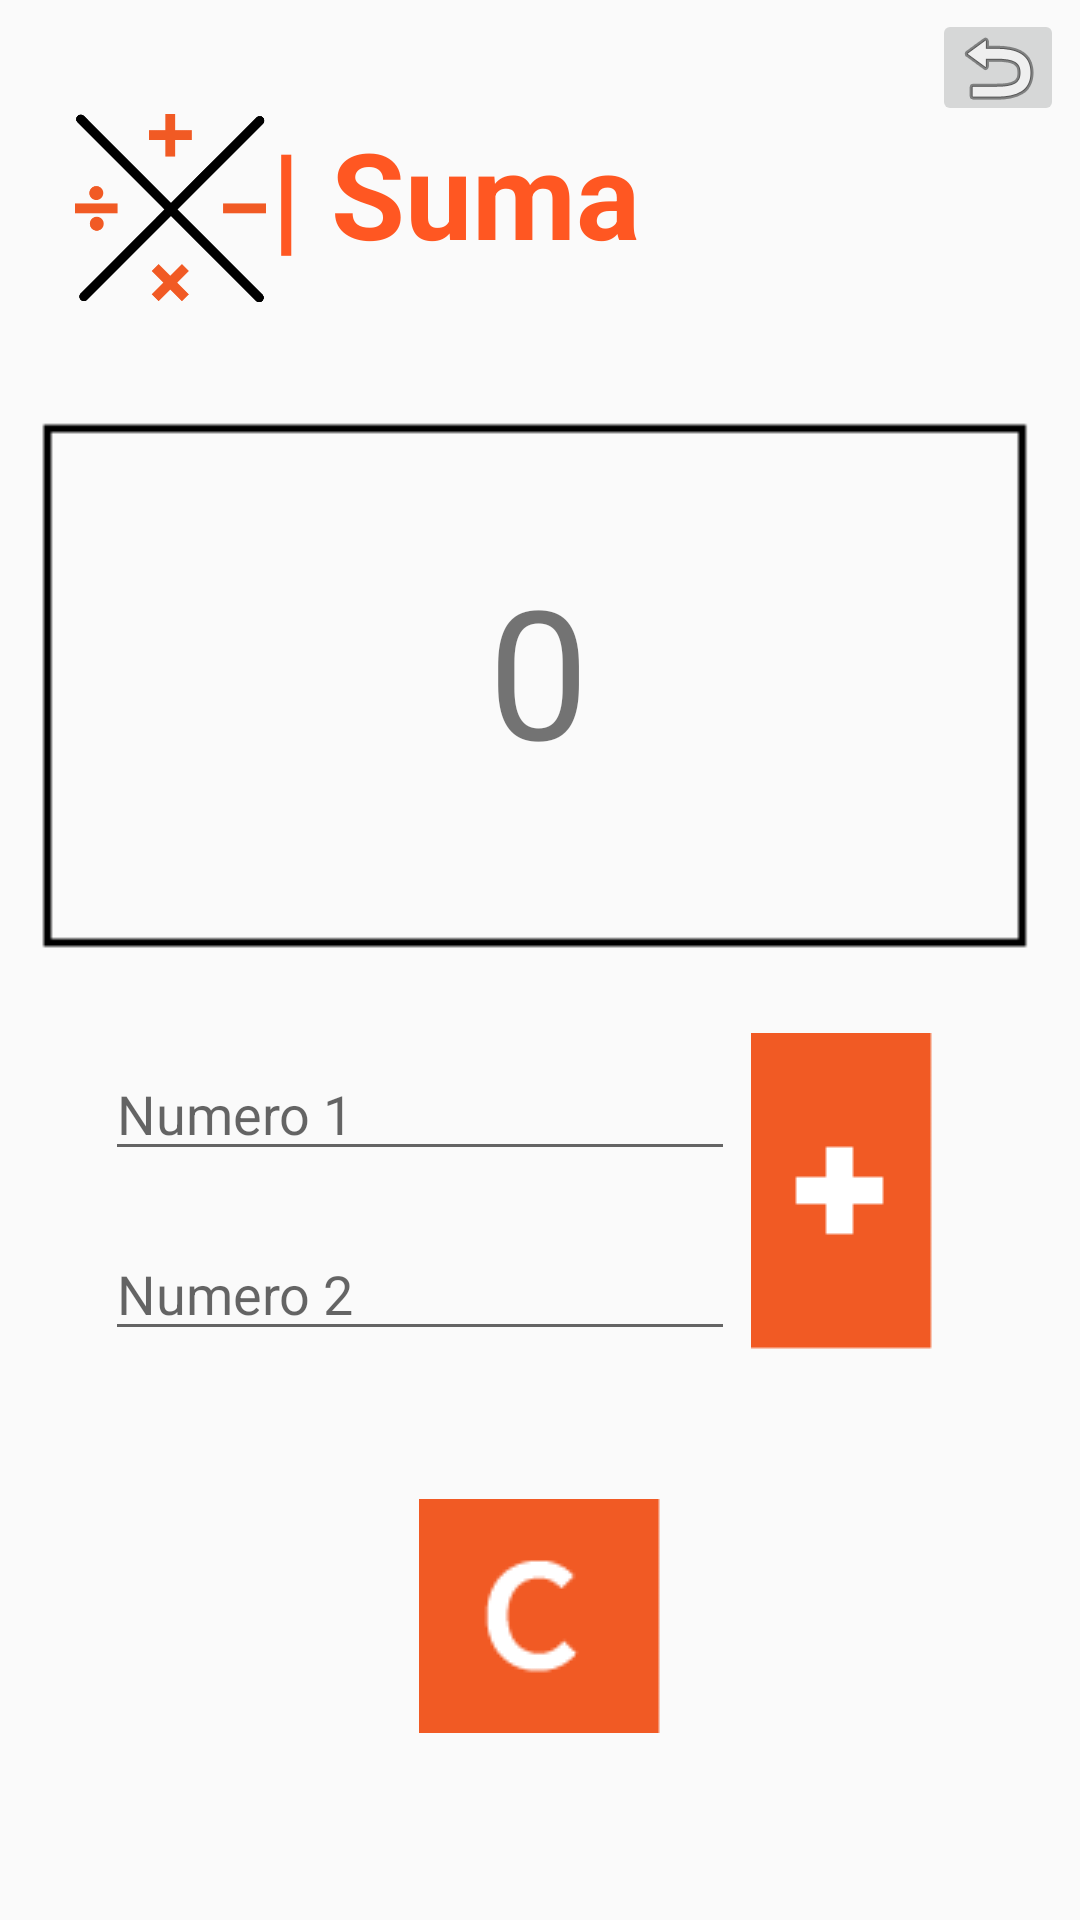

Screen size 1080×1920. Icon name, then its box in pixels as (x1, y1, x2, y2):
borrado: (419, 1499, 660, 1733)
opr suma: (751, 1033, 932, 1349)
revert: (944, 27, 1052, 108)
